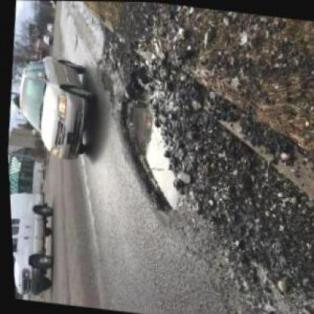Hueco: (104, 84, 191, 214), (92, 64, 117, 102)
